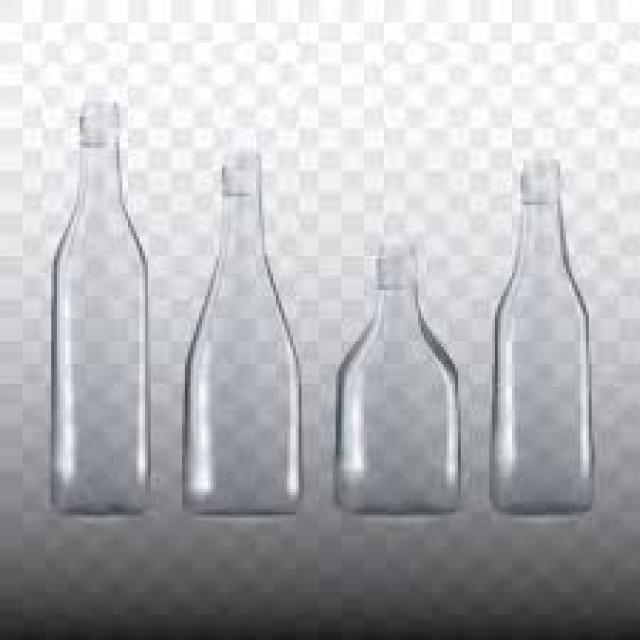Glass-Non-Biodegradable but Recyclable-: (182, 155, 301, 515), (49, 97, 149, 516), (489, 156, 592, 519), (340, 241, 461, 516)
